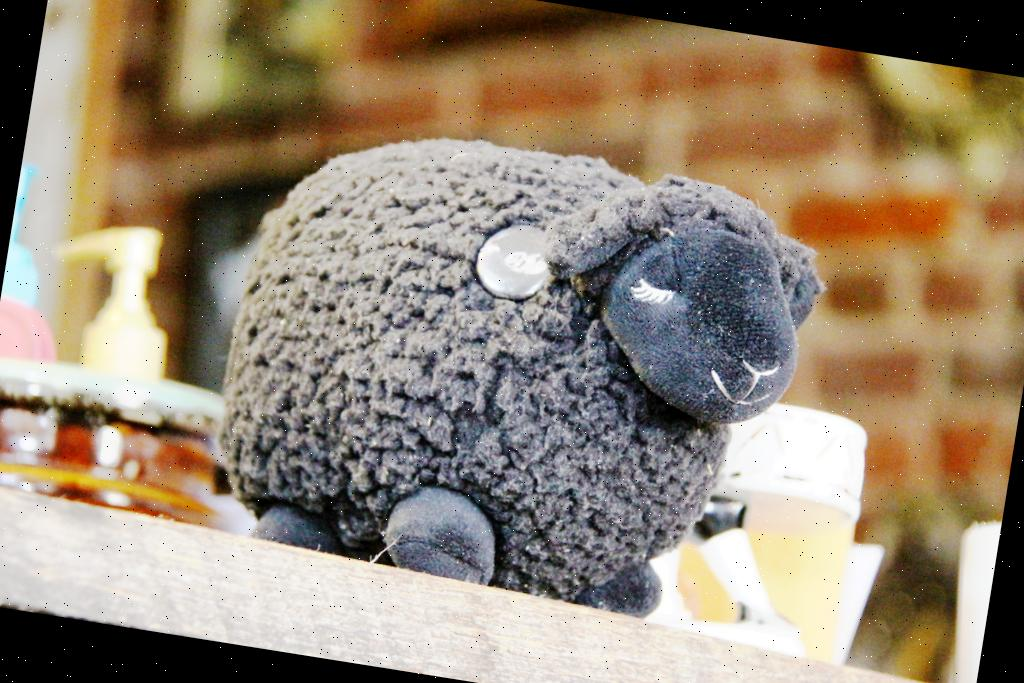Sheep: (196, 101, 846, 640)
